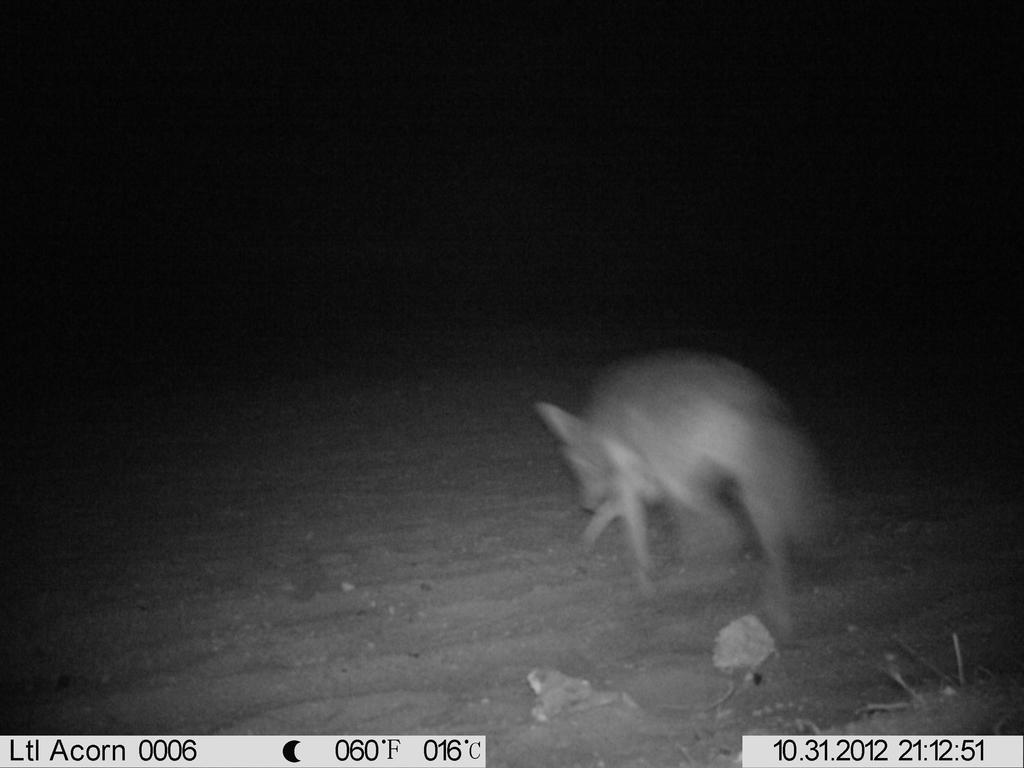coyote: (541, 349, 853, 649)
